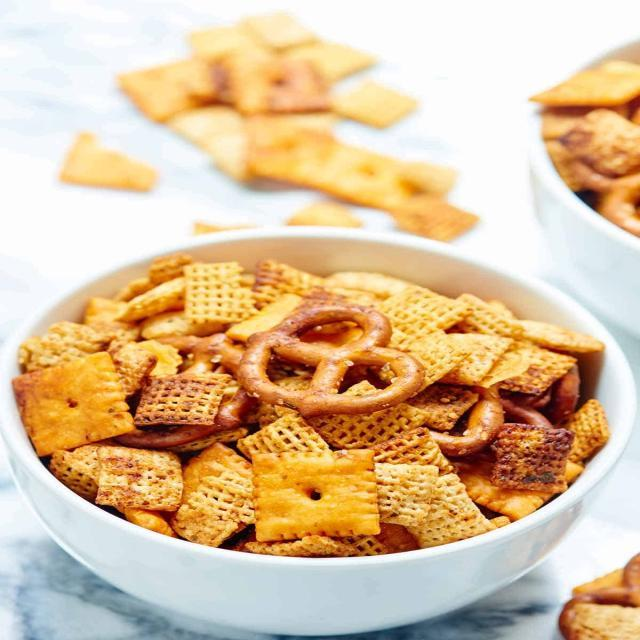Salatini: (32, 140, 286, 268)
